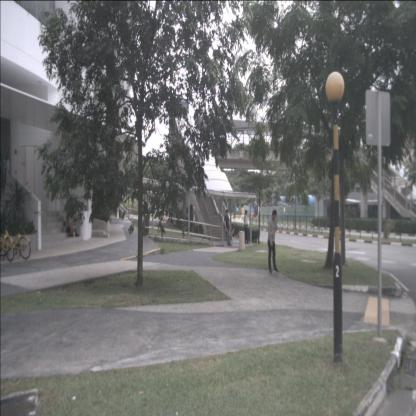human-pedestrian-adult: (267, 209, 280, 275), (66, 211, 78, 238), (224, 210, 233, 245), (244, 209, 249, 244)
vehicle-bicycle: (5, 224, 31, 259), (0, 221, 14, 262)
